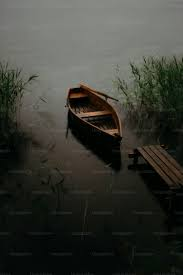boat: (65, 81, 124, 147)
